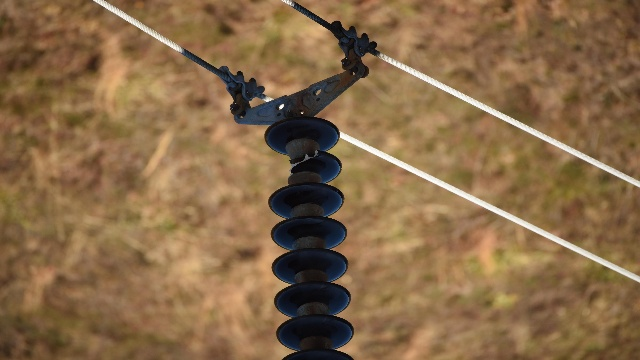broken_local: (284, 149, 324, 174)
insulator_unspecified: (262, 117, 356, 359)
